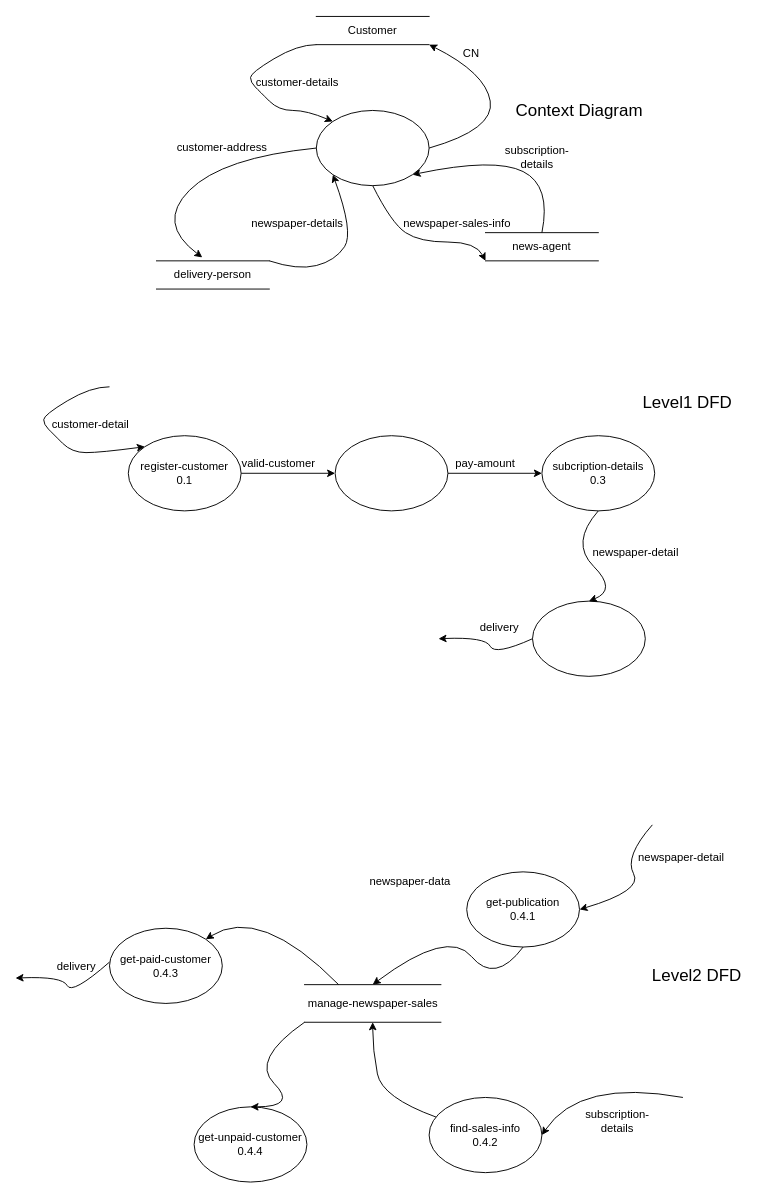
Some shapes in this 775 by 1199 pixel diagram are drawn without their labels. The centre of each missing label's shape, as x and y in pixels:
"generate-customer-address 0.4" goes at [588,638].
"newspaper agency automation software: 0" goes at [372,148].
"select-newspaper 0.2" goes at [391,473].
